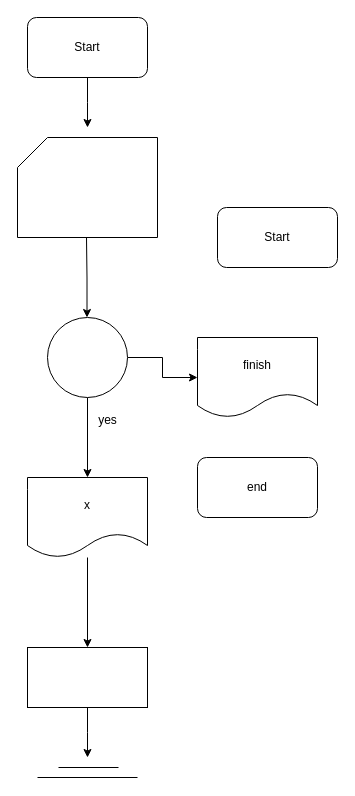
Image size: 355x796. Some labels were removed from this diagram. Here are the shapes that lost their labels. From the top down, the centre of each, then its label:
pixel 87 187: x(float) "whats is x?"
pixel 87 357: while x<11
pixel 87 677: x+=1
